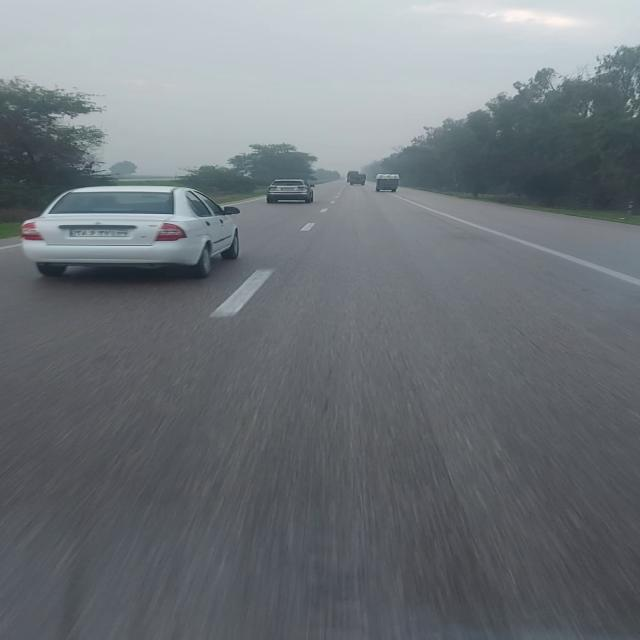Car: (18, 183, 244, 278), (256, 176, 324, 207)
